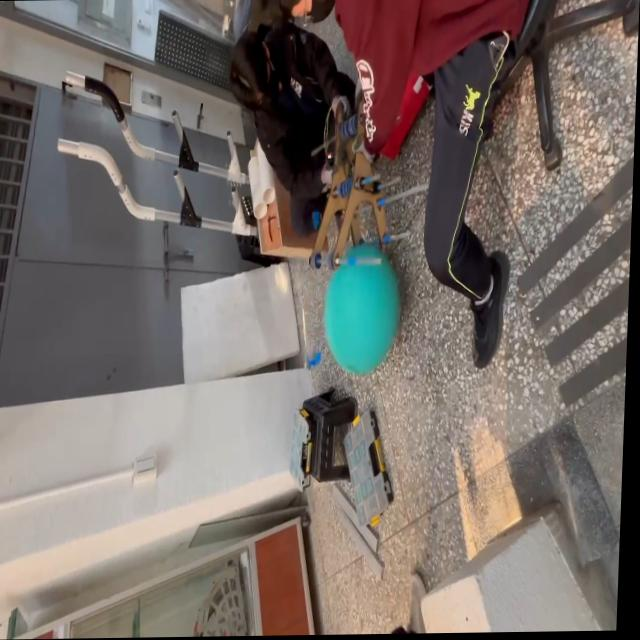ALGAE: (321, 241, 404, 377)
